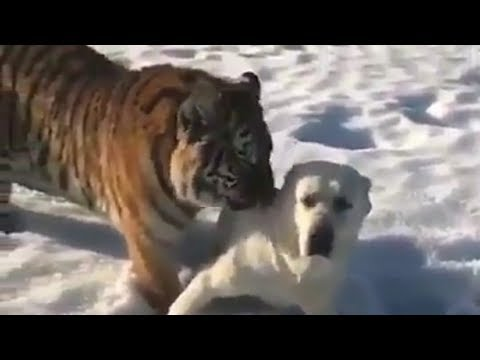dog: (194, 158, 380, 315)
tiger: (1, 46, 280, 309)
